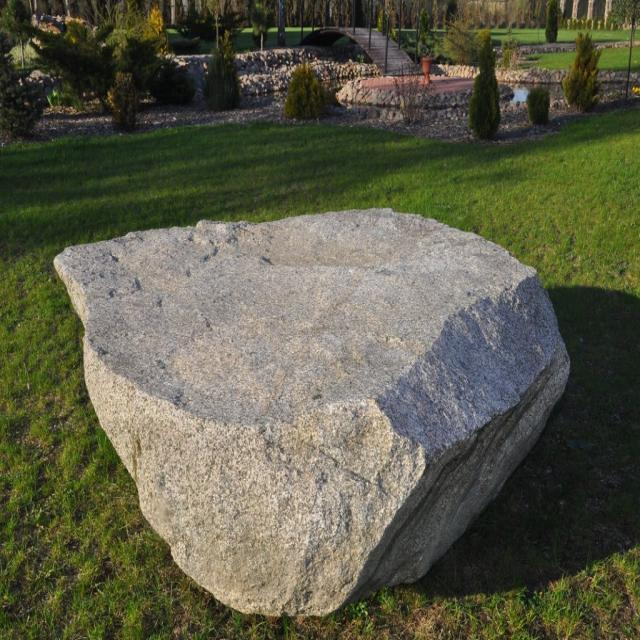grass: (0, 110, 639, 639)
stone: (54, 209, 569, 616)
